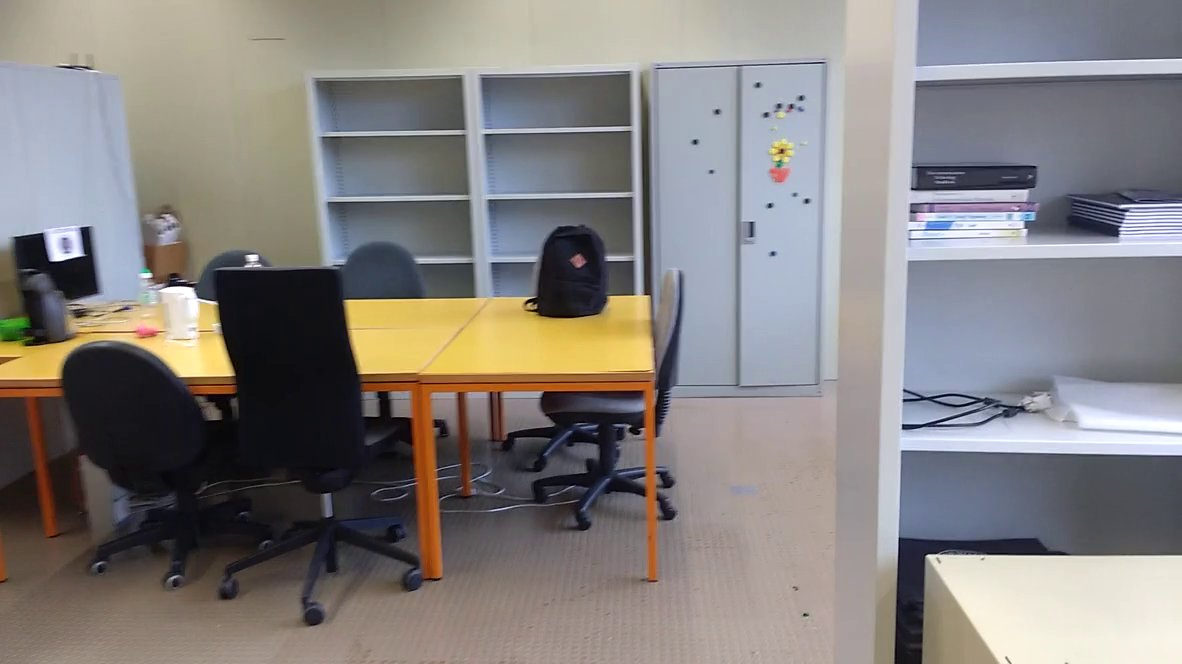bag: (524, 214, 613, 323)
chair: (208, 252, 448, 626), (47, 330, 293, 596), (530, 241, 716, 542), (332, 237, 450, 322)
